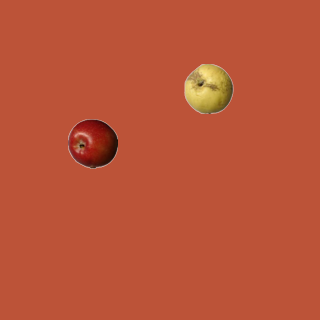Apple Braeburn: (67, 118, 117, 168)
Apple Golden 1: (183, 63, 233, 113)
